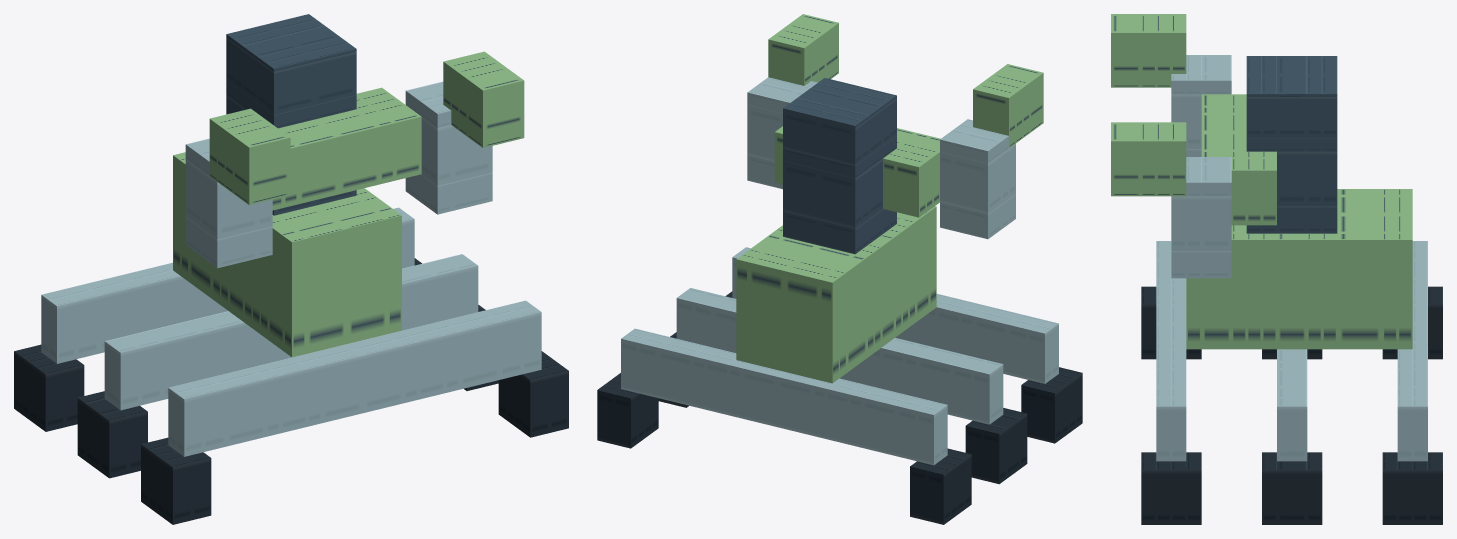
The model's file is sc_lobby_robot_mantis.obj.
3 renders of one model, left to right at view 1: azimuth 30°, elevation 25°; view 2: azimuth 150°, elevation 25°; view 3: azimuth 270°, elevation 25°, orthographic. The views are drawn at different scales.
Bounding box in the file's own units: 14.4 × 13.1 × 11.
Materials: 1 (1 with a texture image).
